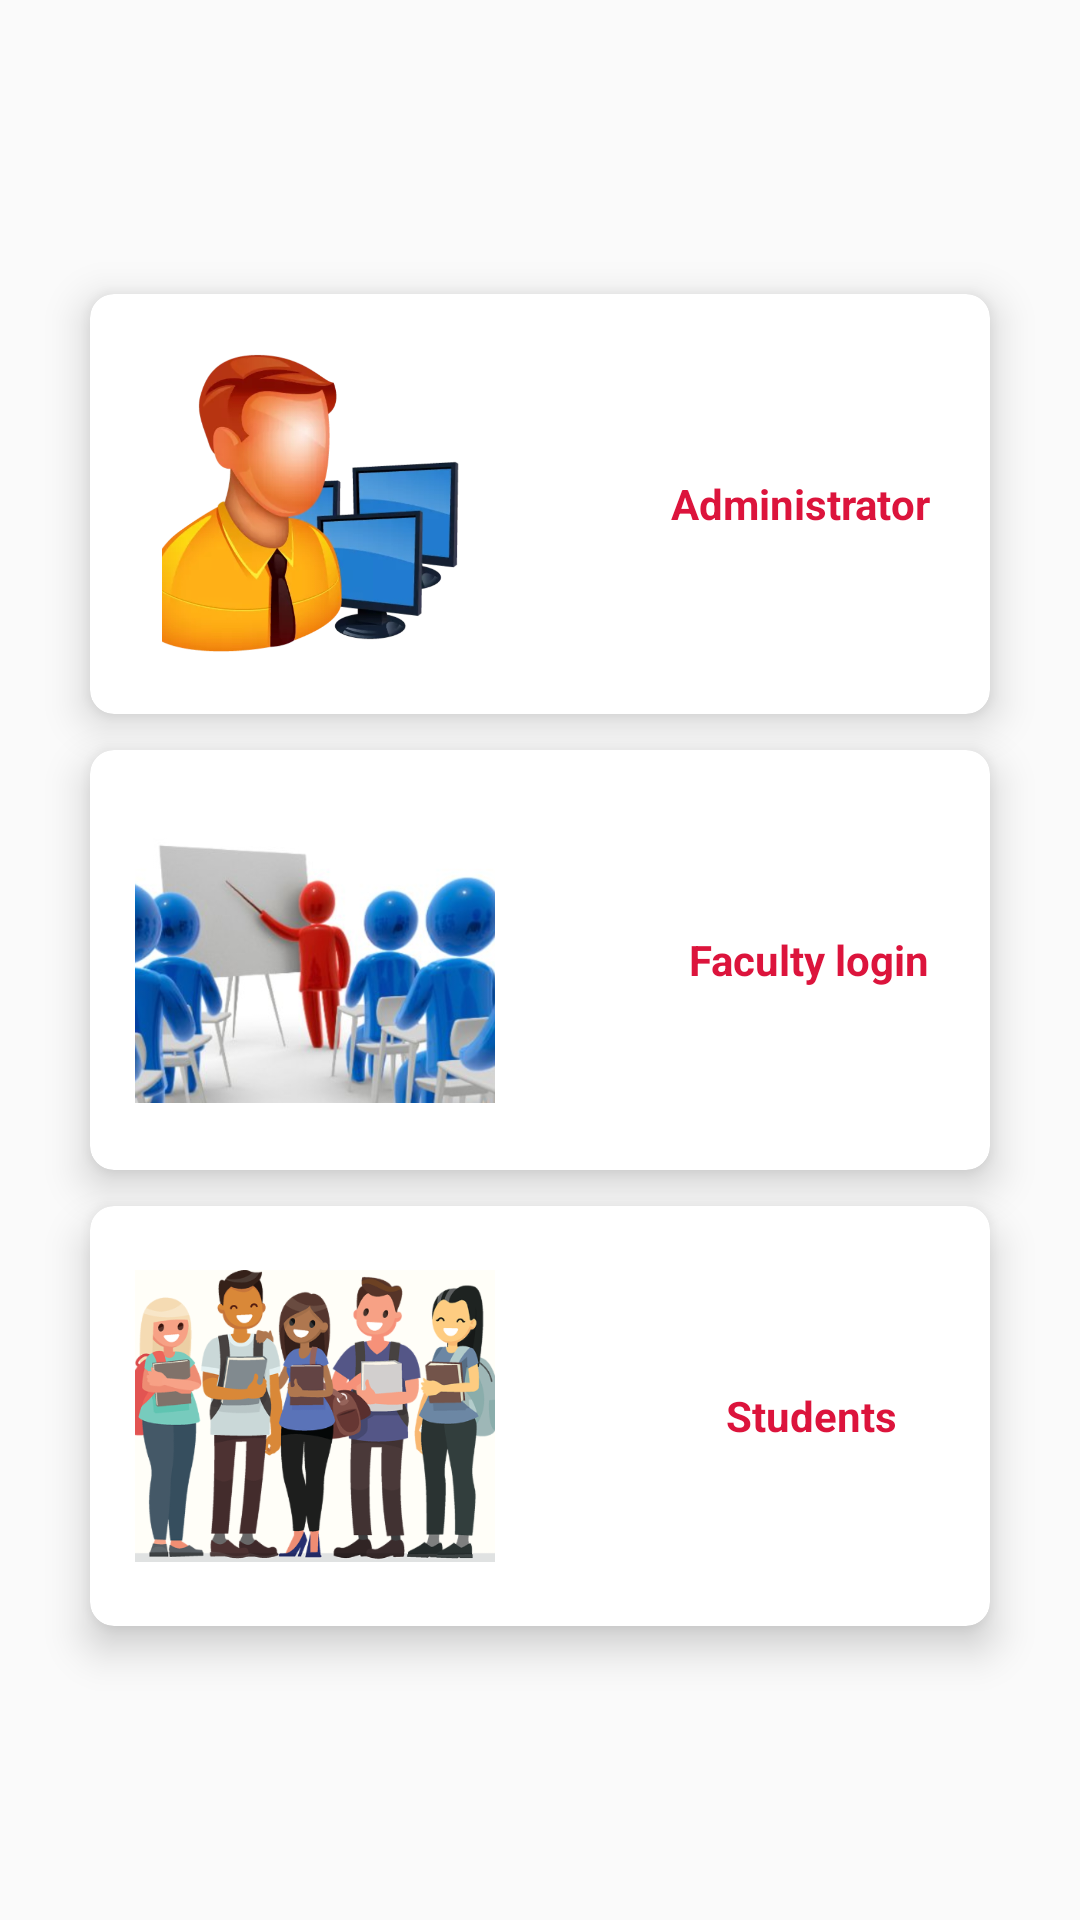

Where icons sit on this 1080x1920 app screen, as (x1, y1, x2, y2):
admin: (162, 355, 459, 652)
faculty: (135, 845, 495, 1103)
students: (135, 1270, 495, 1562)
